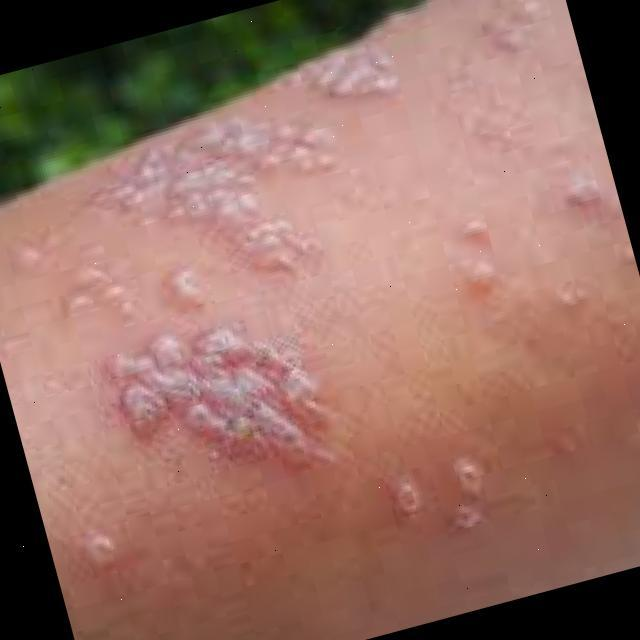Shingles: (8, 118, 338, 478), (268, 42, 397, 111), (391, 451, 484, 526), (83, 524, 118, 566)
